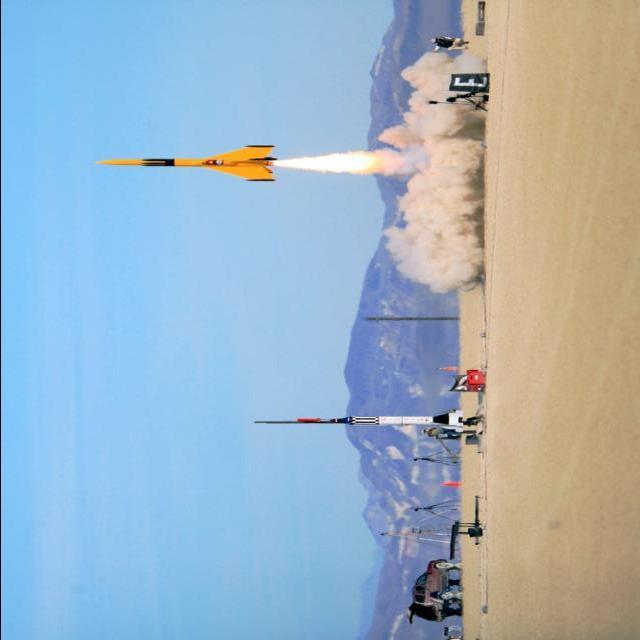Missile: (86, 139, 278, 187), (257, 411, 463, 427)
